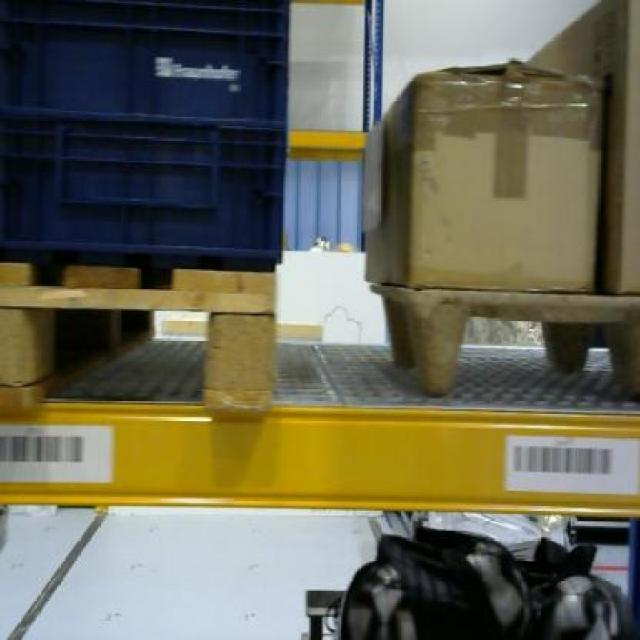box: (364, 50, 612, 287)
